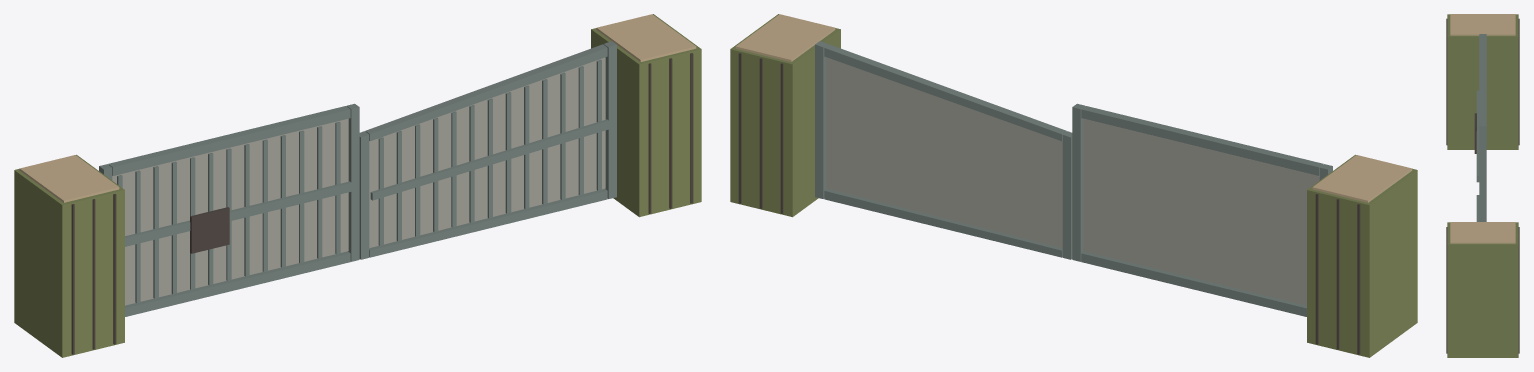
File: SM_PuertaViaDoble_v1_ChapaOndulada_e1_Danado_LOD0.fbx
The picture shows the model from 3 angles, left to right: view 1: azimuth 30°, elevation 25°; view 2: azimuth 150°, elevation 25°; view 3: azimuth 270°, elevation 25°; orthographic projection. The views are drawn at different scales.
Parts seen in each view (by area): view 1: Hoja_O, Hoja_E, SM_puerta_via_doble_v5_LOD0; view 2: Hoja_O, Hoja_E, SM_puerta_via_doble_v5_LOD0; view 3: SM_puerta_via_doble_v5_LOD0, Hoja_O, Hoja_E.
Part boxes in pixels (x1,y1,x2,y2): Hoja_O: [99, 103, 359, 316]; Hoja_E: [359, 41, 616, 259]; SM_puerta_via_doble_v5_LOD0: [14, 14, 701, 357]; Hoja_O: [1072, 103, 1332, 316]; Hoja_E: [815, 41, 1072, 259]; SM_puerta_via_doble_v5_LOD0: [730, 14, 1417, 357]; SM_puerta_via_doble_v5_LOD0: [1446, 14, 1519, 357]; Hoja_O: [1474, 34, 1486, 182]; Hoja_E: [1476, 149, 1486, 221].
Size of the model in its own units: 9.2 by 2.16 by 1.24.
